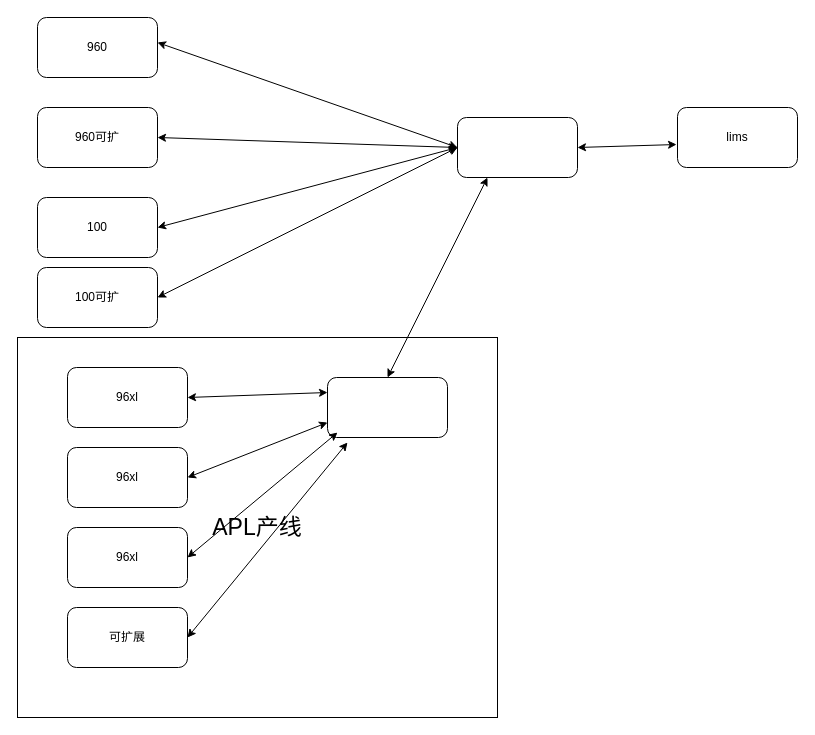
Image size: 815x735. Some labels were removed from this diagram. The shapes that lost their labels are listed below. From the top down, each one's centre as x and y in pixels, then its label:
At point (517, 147): "连接lims的交换机".
At point (387, 407): "调度中心".
